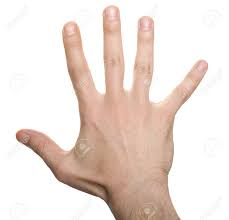hand: (8, 4, 220, 210)
